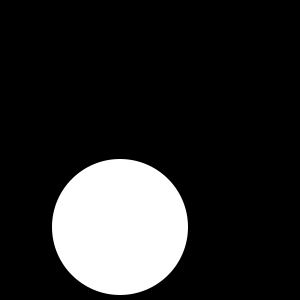rectangle: (52, 159, 188, 295)
